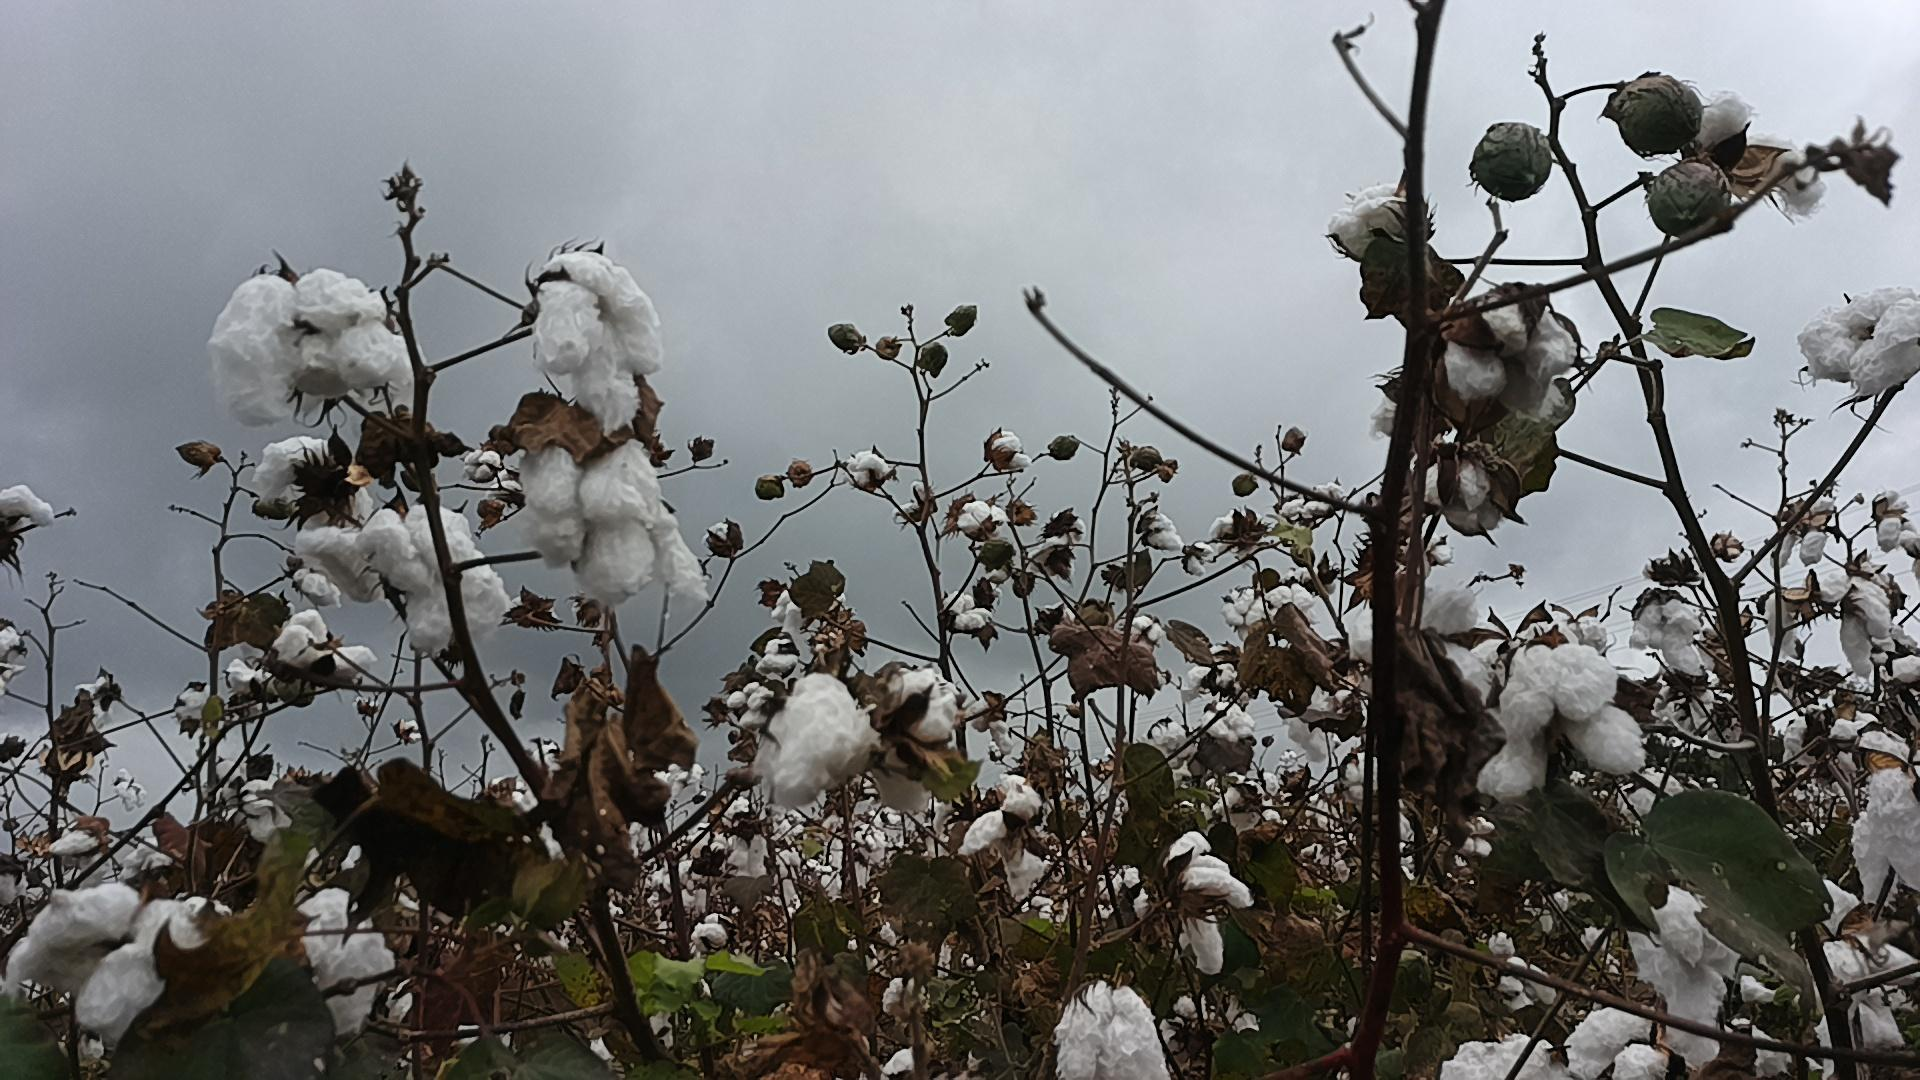cotton_ready: (1, 884, 228, 1039), (518, 443, 713, 613), (212, 272, 407, 421), (1474, 641, 1650, 803), (533, 251, 662, 436), (369, 505, 516, 661), (1630, 887, 1739, 1067), (1695, 87, 1830, 219), (306, 886, 418, 1043), (1448, 299, 1578, 423), (1374, 390, 1490, 516), (767, 669, 874, 803), (1796, 284, 1920, 397), (873, 667, 960, 825), (1168, 828, 1254, 971), (1815, 939, 1920, 1052), (959, 774, 1051, 899), (1058, 981, 1172, 1080), (251, 435, 371, 529), (1346, 582, 1481, 662), (1850, 770, 1920, 911), (1742, 978, 1837, 1080), (290, 502, 378, 596), (276, 607, 382, 675), (1568, 1006, 1665, 1080), (1325, 185, 1420, 256), (1437, 1029, 1565, 1080), (1627, 599, 1708, 679), (1837, 580, 1895, 680), (0, 481, 58, 526)
